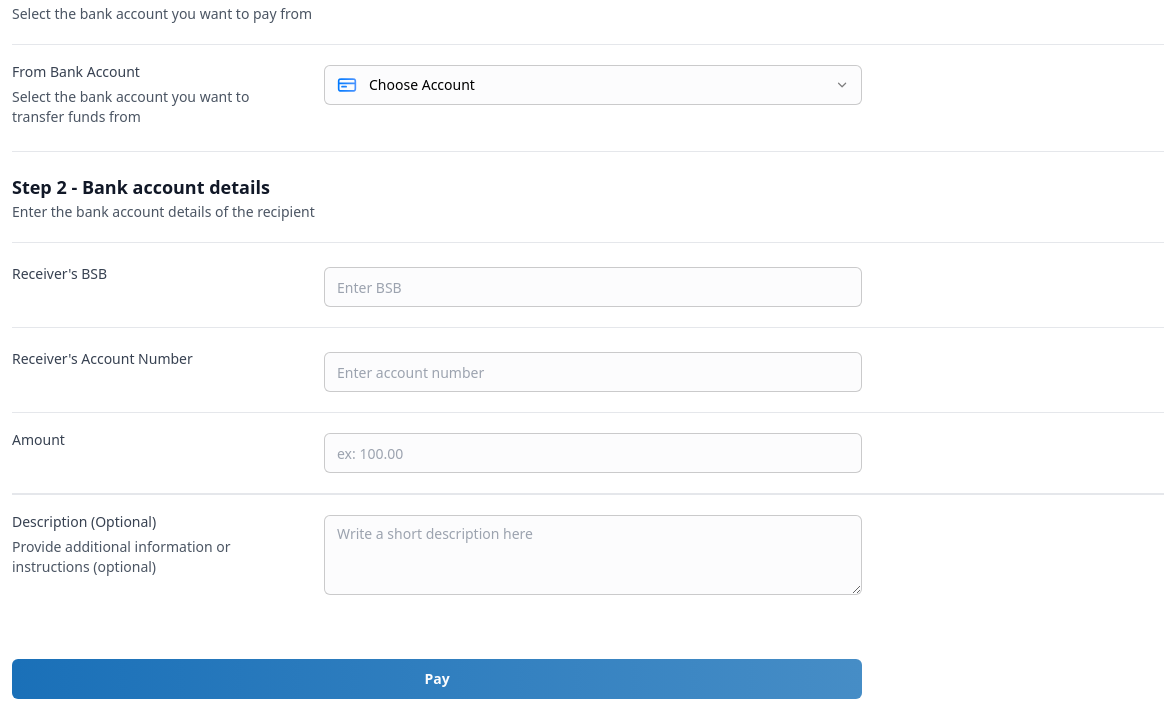
Test: PayAnyoneForm Component › should display validation errors when required fields are empty
The image size is (1164, 719).
(page scrolled)
# Click on submit button without filling the form
Click the button "Pay" at (437, 679), box [12,659,862,699]
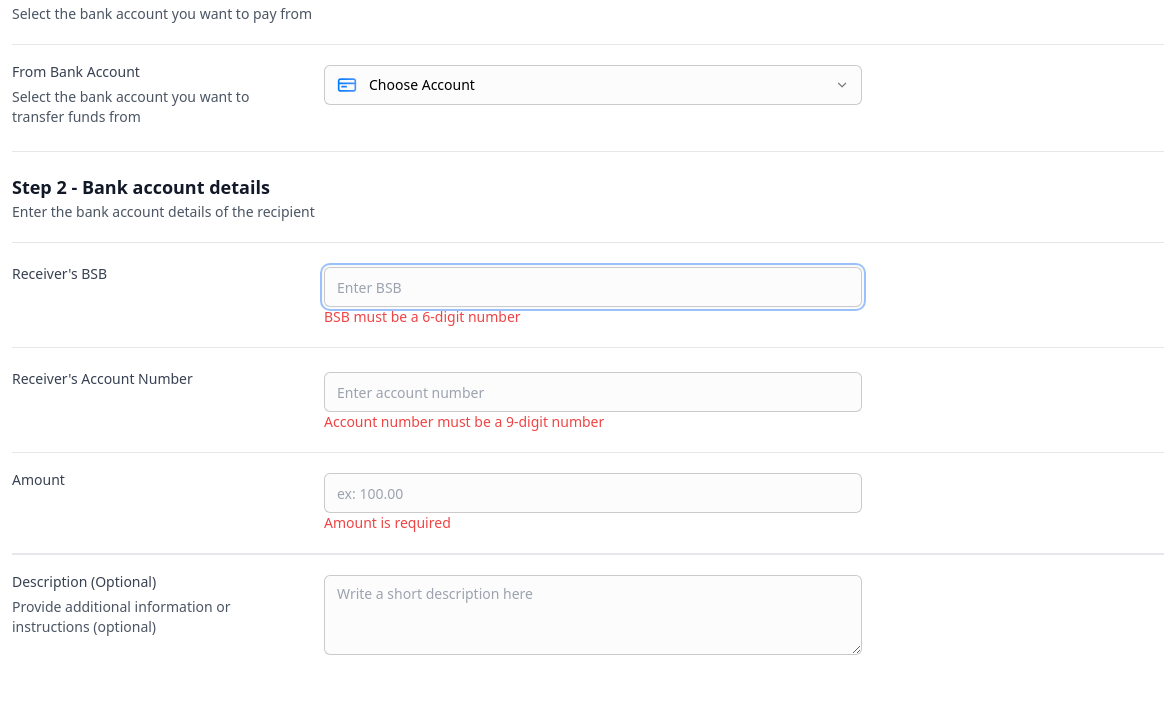
Expected: the text "BSB must be a 6-digit number" is shown, [324,307,521,326]
Expected: the text "Account number must be a 9-digit number" is shown, [324,412,604,431]
Expected: the text "Amount is required" is shown, [324,513,451,532]
